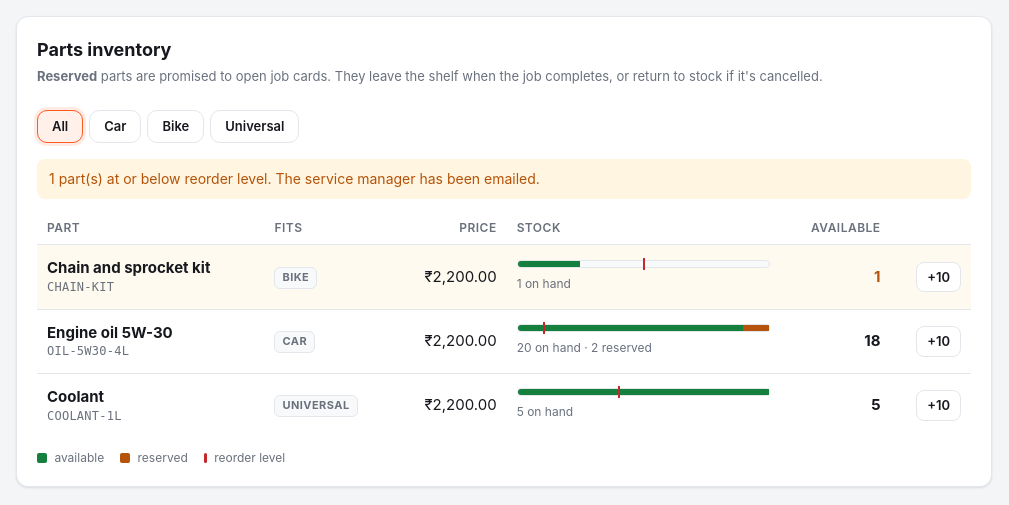
Test: InventoryPage › filters by fitment
Check: the text "Coolant" is shown, box left=47, top=387, right=104, bottom=406
Click the button "Car": [115, 126] box left=89, top=110, right=142, bottom=143
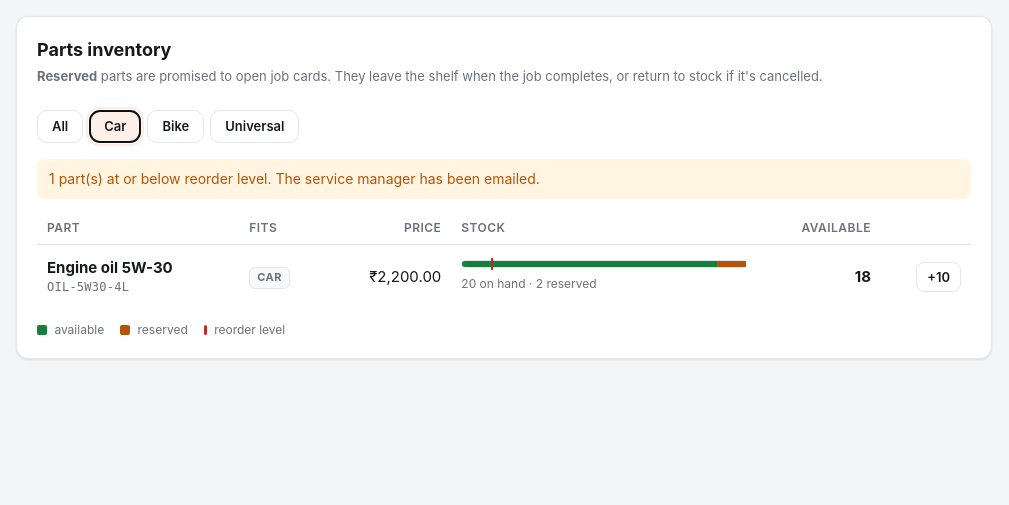
Check: the text "Engine oil 5W-30" is shown, box left=47, top=258, right=173, bottom=278
Check: the text "Coolant" is gone
Check: the text "Chain and sprocket kit" is gone
